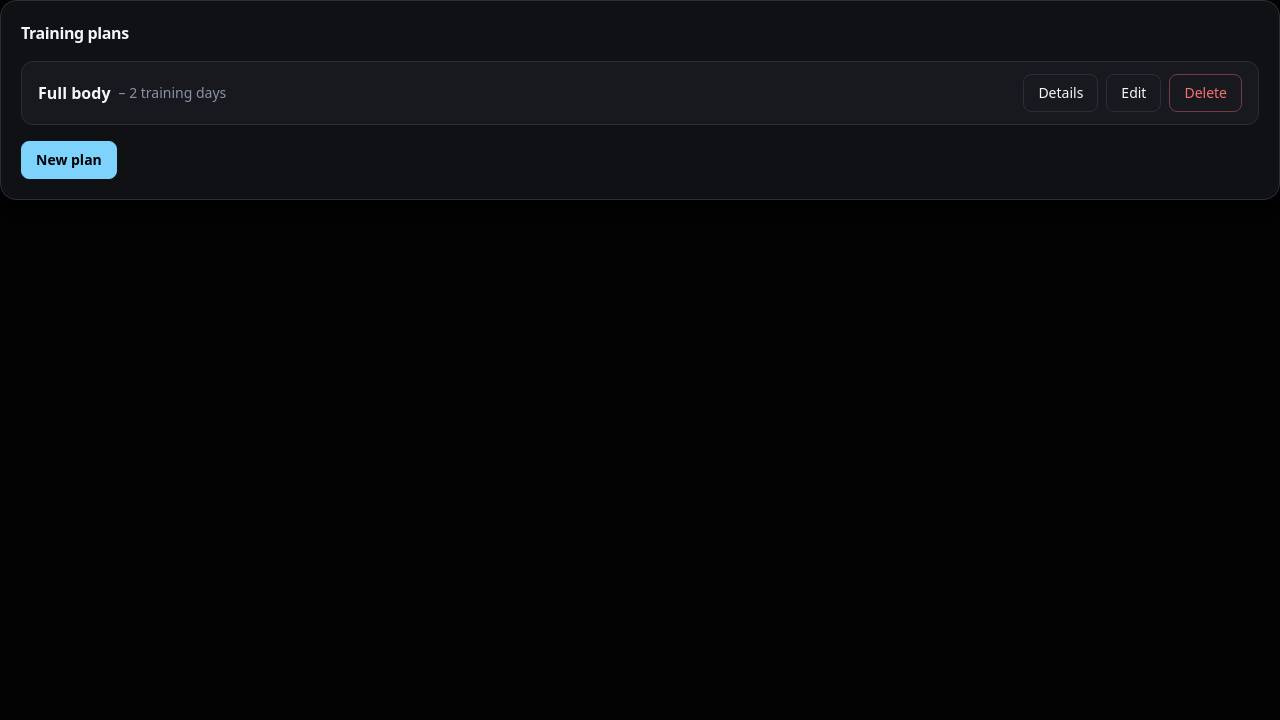
Test: Plans › shows an error when deleting a plan fails
The width and height of the screenshot is (1280, 720).
What coordinates should you click on to do the following:
click the button "Delete"
I would click on:
 (1206, 93)
Its box is [1169,74,1242,112].
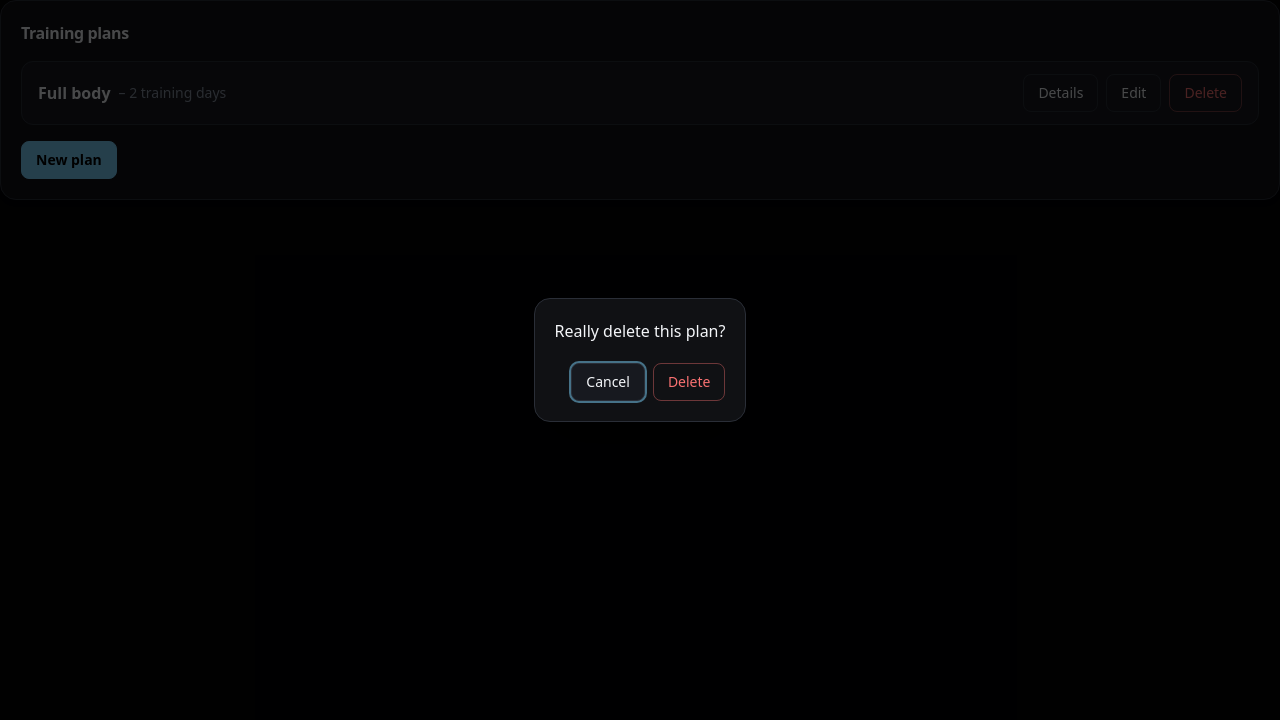
What coordinates should you click on to do the following:
click the button "Delete"
I would click on:
 (689, 382)
Its box is [653,363,726,401].
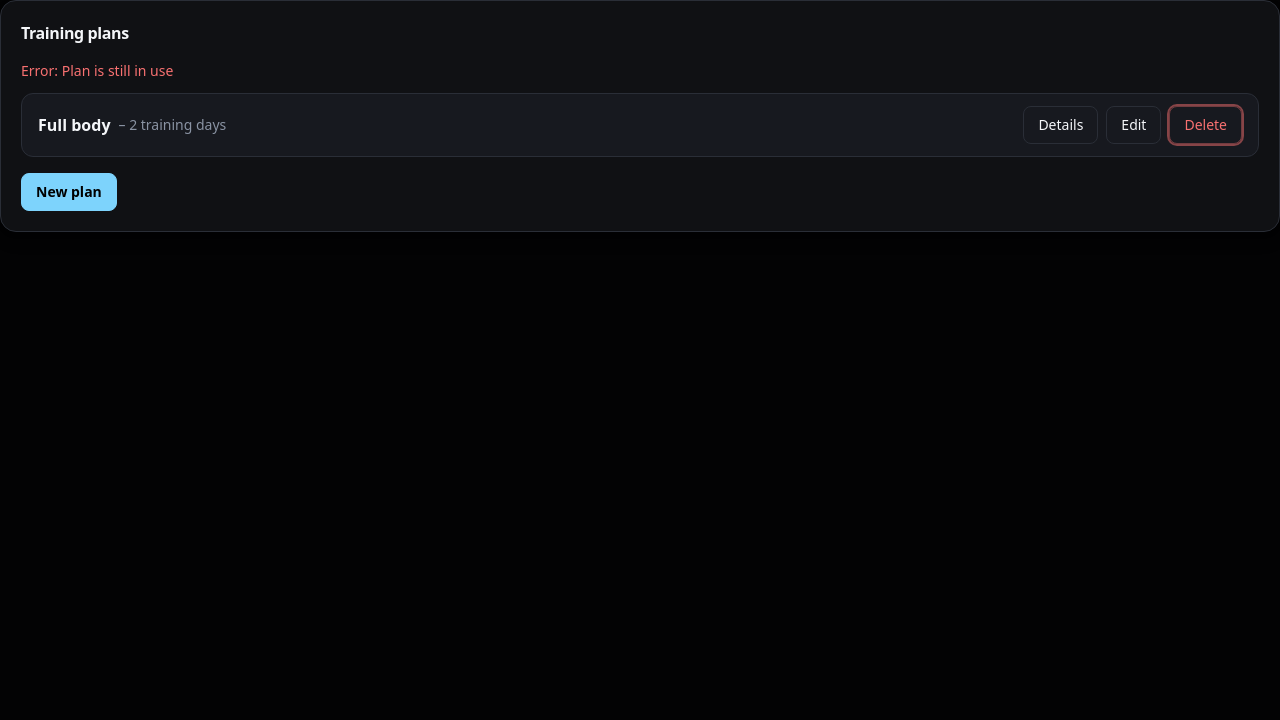
Check: the text "Full body" is shown, box [38,113,110,137]
Check: the text "Error: Plan is still in use" is shown, box [21,61,173,80]
